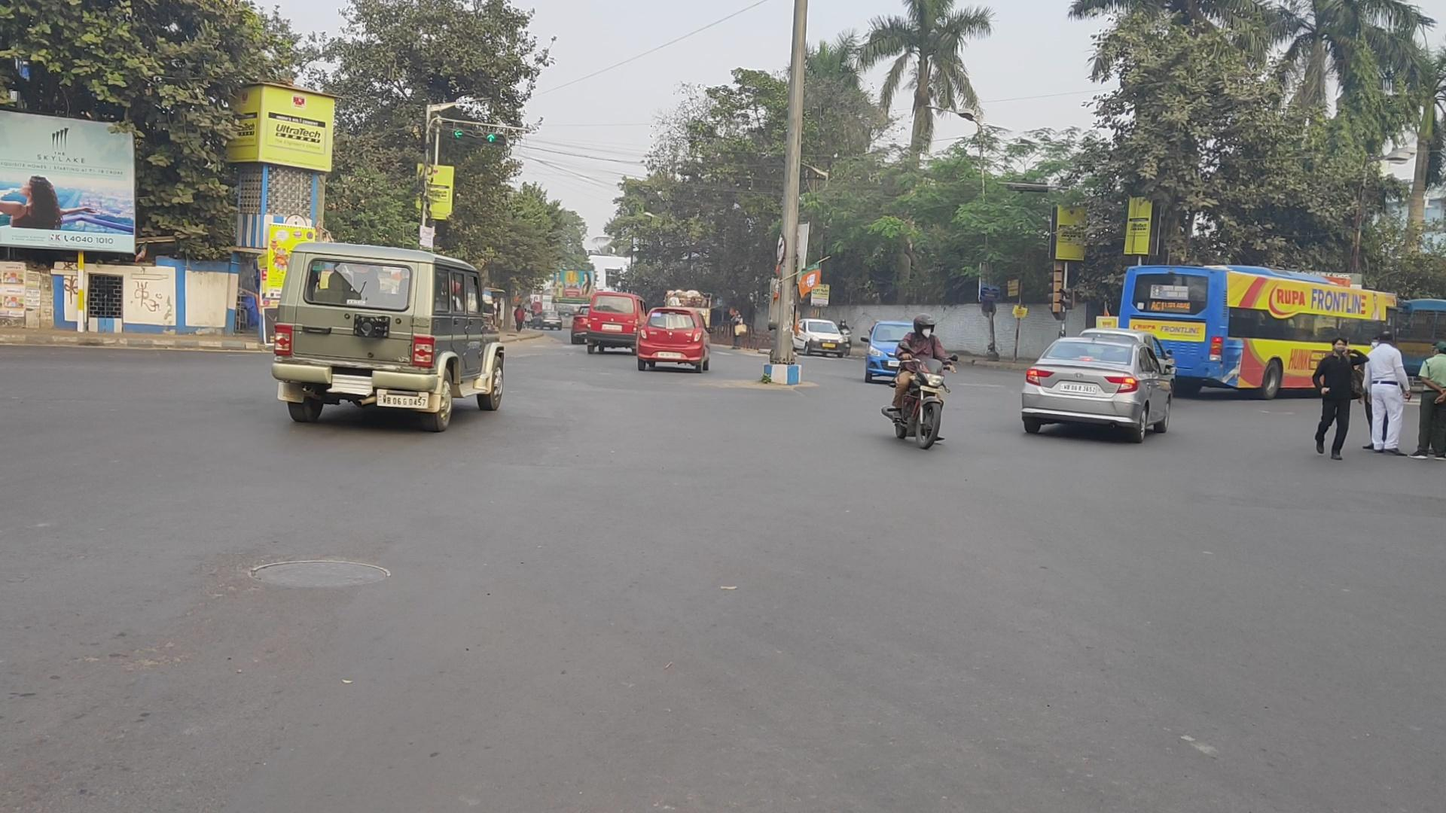Bus: (1119, 264, 1403, 401), (1399, 298, 1446, 392)
bike: (882, 314, 958, 449), (837, 317, 856, 356)
car: (272, 242, 505, 433), (1023, 336, 1177, 443), (1081, 327, 1173, 408), (860, 320, 942, 384), (636, 306, 712, 374), (586, 291, 653, 355), (792, 318, 844, 358), (569, 303, 612, 345), (531, 310, 563, 331)
van: (663, 289, 713, 340)
